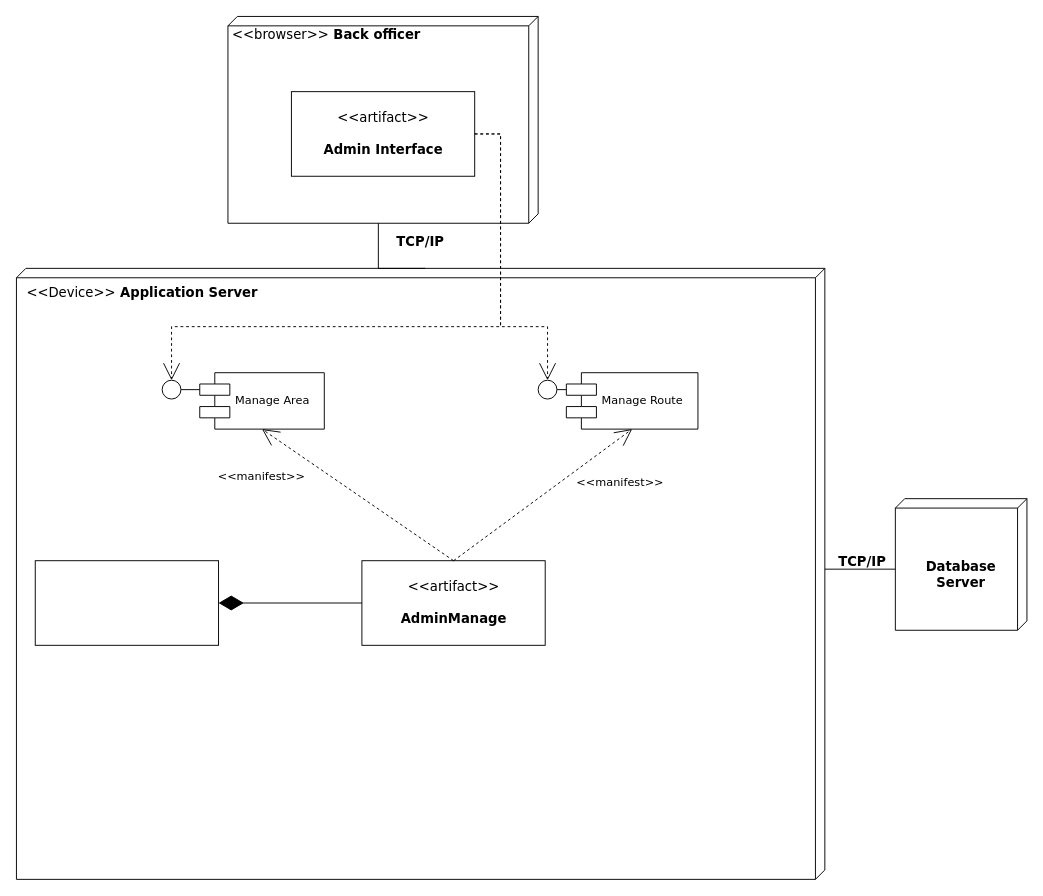
This 1043x896 diagram has some shape labels left out. Each missing label, with the box of its shape:
<<artifact>> UWC 2.0_app: (34, 560, 219, 645)
<<Device>>: (894, 498, 1027, 630)
